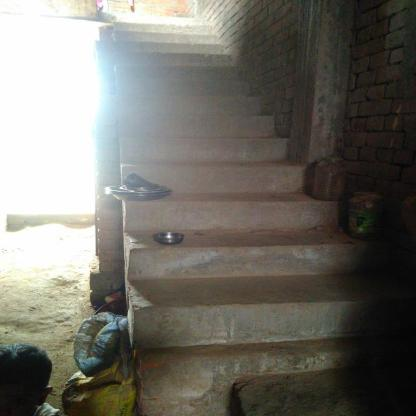stair: (109, 5, 380, 415)
